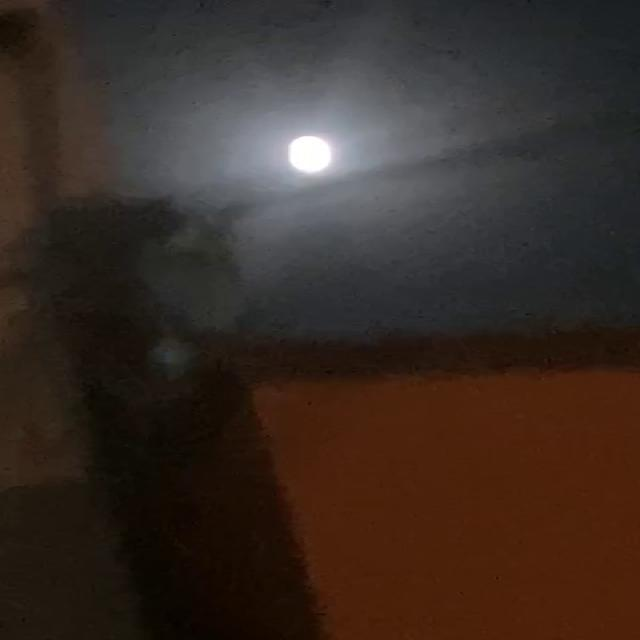moon: (315, 196, 374, 246)
